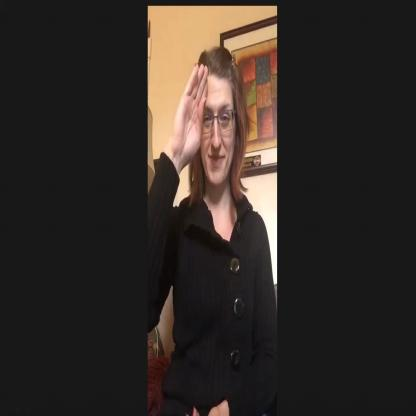Hello: (160, 23, 250, 228)
